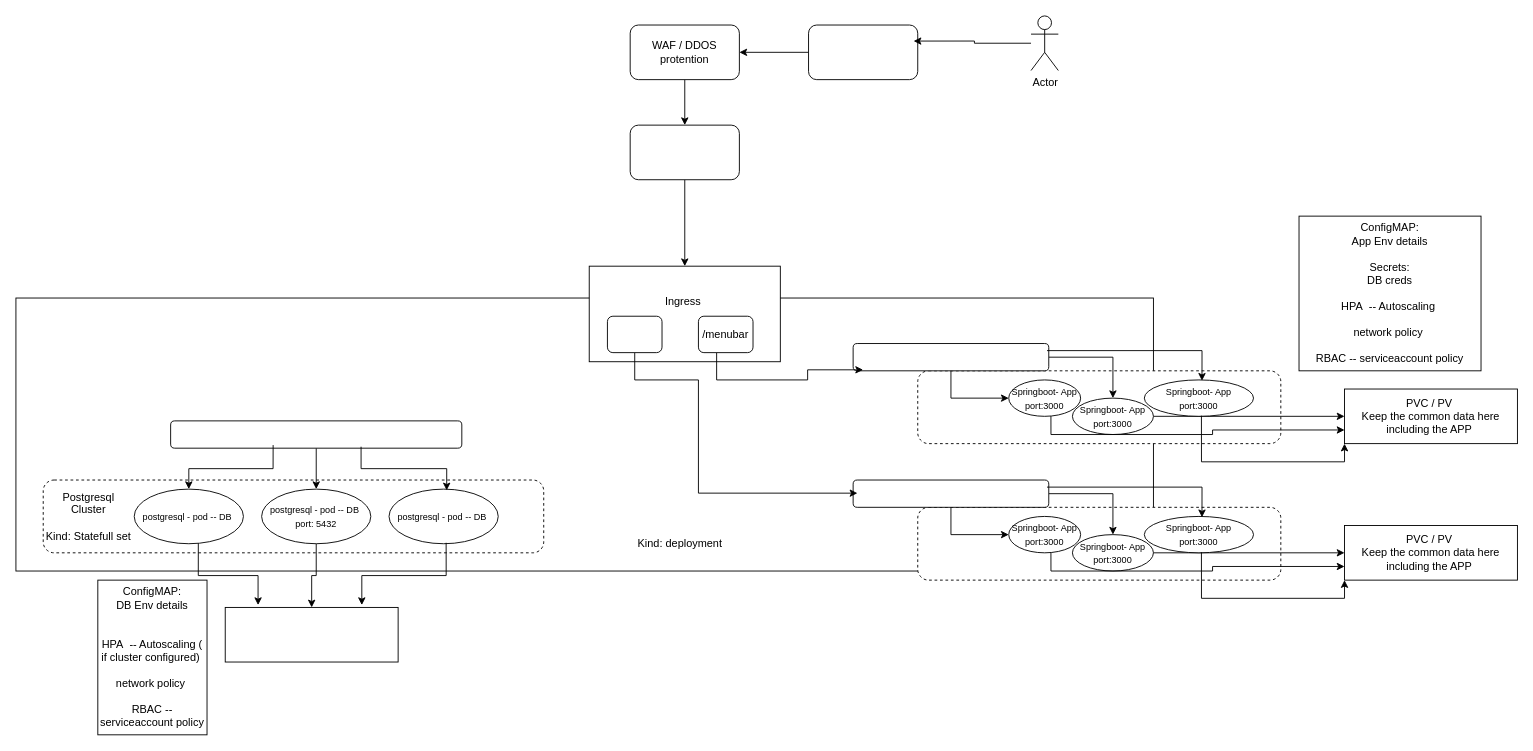
Image size: 1533x751. Some labels were removed from this diagram. Each missing label, with the centre of its shape:
"/customer order" goes at point (634, 334).
"application Loadbalancer" goes at point (684, 152).
"DNS" goes at point (863, 52).
"postgrel -- Service port: 5432" goes at point (316, 434).
"PVC / PV Keep the DB data here" goes at point (311, 634).
"springboot1-- Service port: 3000 - -/menubar" goes at point (950, 357).
"springboot2-- Service port: 3000 /customerorder" goes at point (950, 493).
